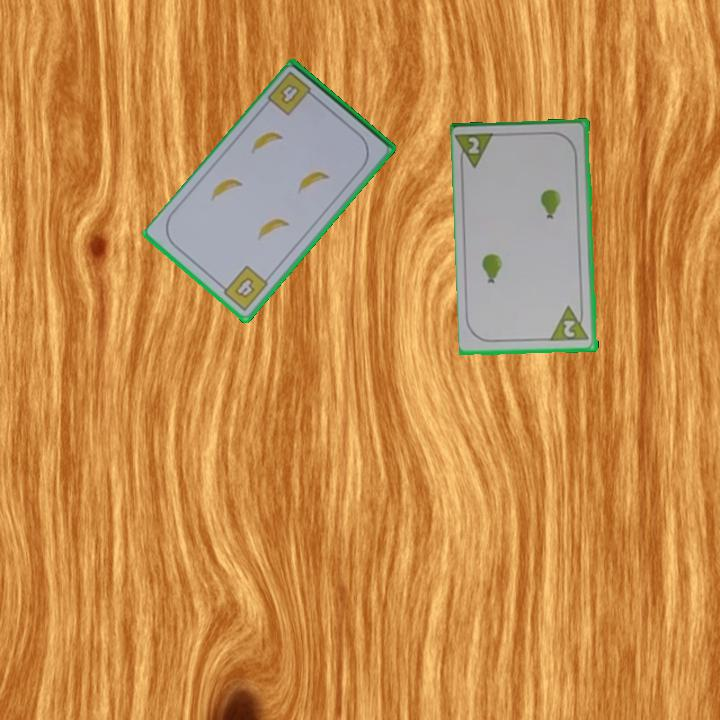2p: (455, 129, 499, 172), (548, 303, 592, 344)
4b: (216, 262, 272, 314), (264, 68, 320, 118)
